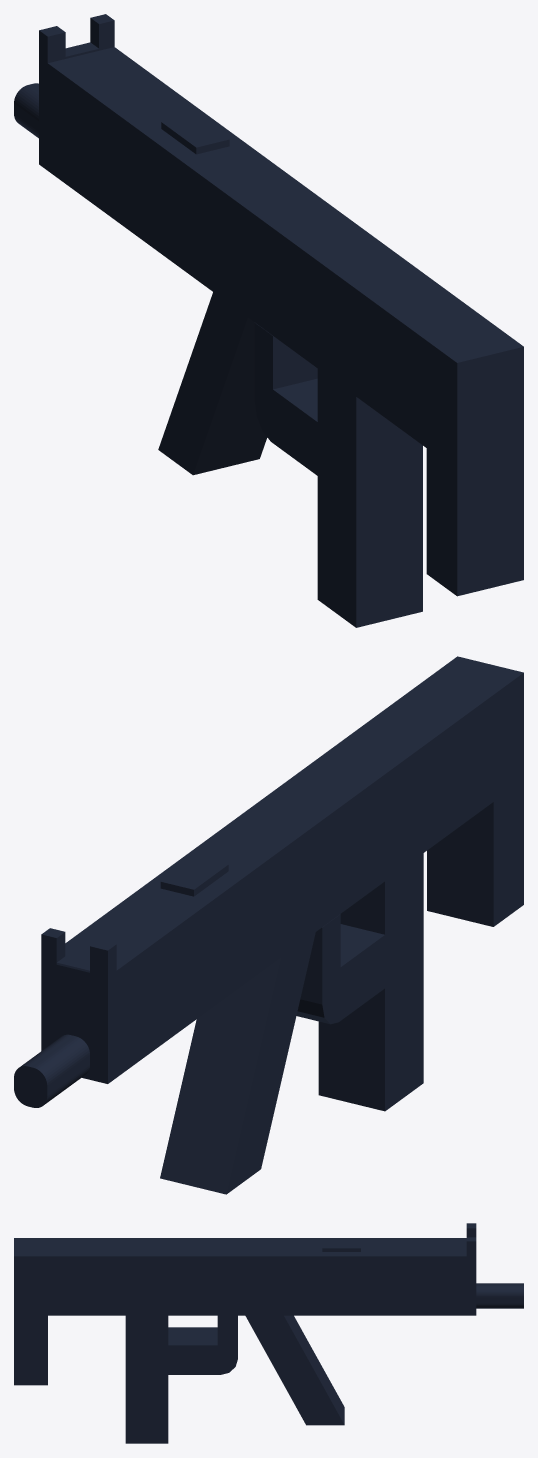
The picture shows the model from 3 angles, top to bottom: view 1: azimuth 30°, elevation 25°; view 2: azimuth 150°, elevation 25°; view 3: azimuth 270°, elevation 25°; orthographic projection. The views are drawn at different scales.
Visible parts, largest first — view 1: Cube; view 2: Cube; view 3: Cube.
Boxes of the visible parts, x1,y1,x2,y2 form: Cube: (14, 14, 523, 627); Cube: (14, 656, 523, 1194); Cube: (14, 1223, 523, 1443).
Size of the model in its own units: 200 by 1045 by 2391.
